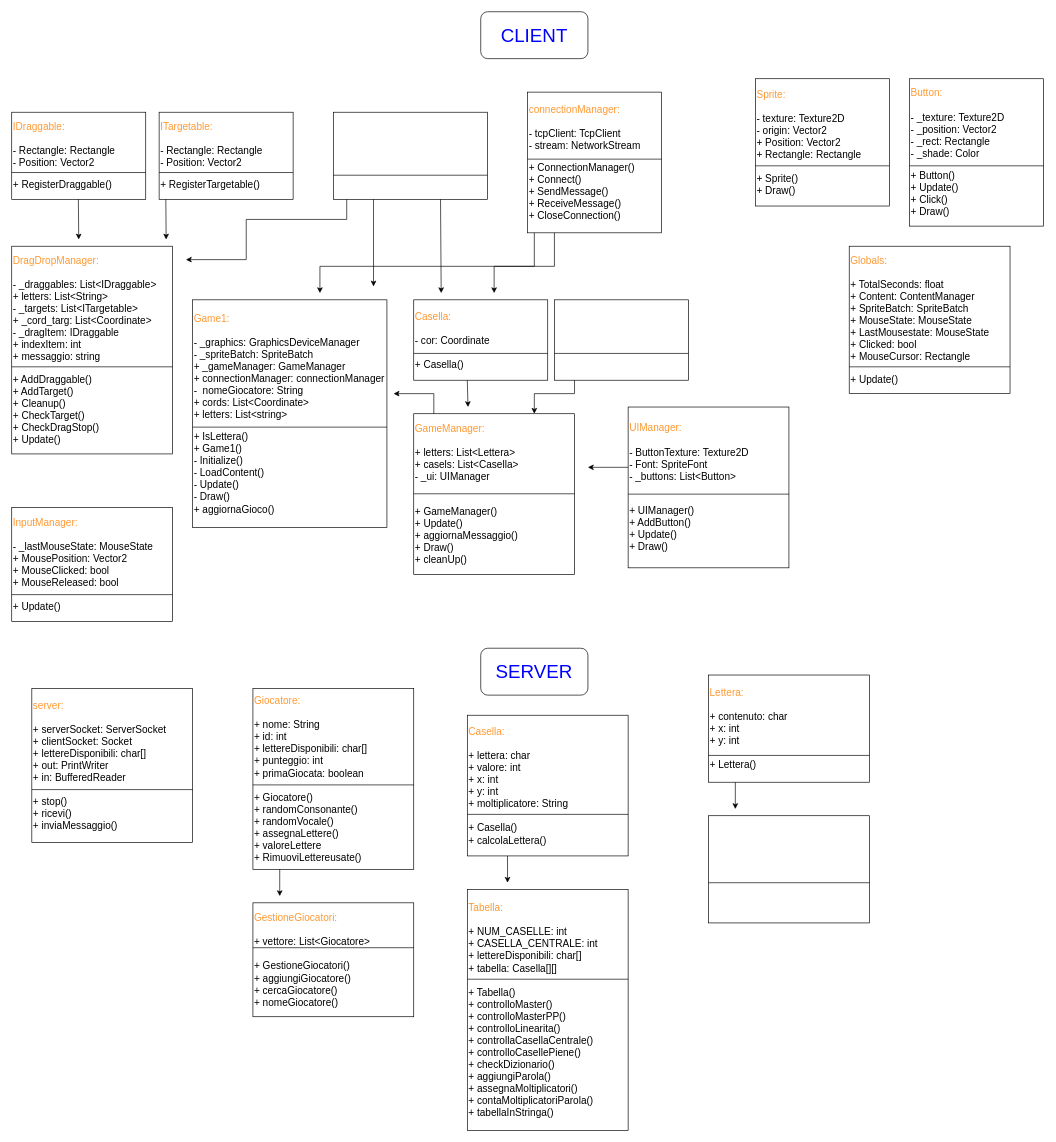
Image size: 1056x1142. Some labels were removed from this diagram. The shapes that lost their labels are listed below. From the top down, each one's centre as x and y in pixels, then its label:
At pixel 410 155: "Coordinate: + x: int + y: int + Coordinate()".
At pixel 621 339: "Lettera: - lettera: String + Lettera()".
At pixel 788 869: "Parola: + lunghezza: int + vettore: List<Lettera> + Parola() + checkDirezione()".
